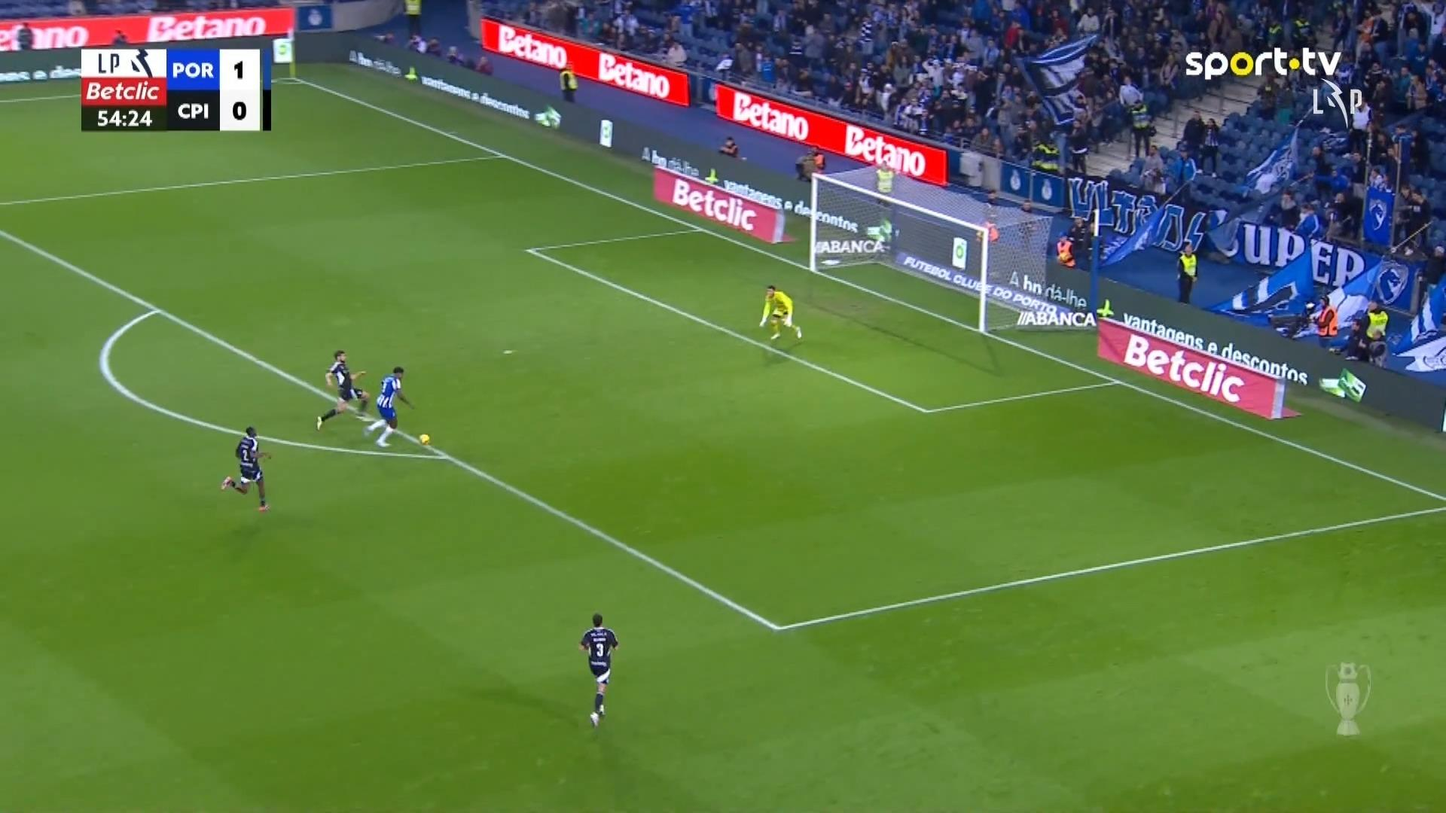ball: (419, 433, 429, 444)
goalkeeper: (758, 284, 802, 342)
player: (219, 425, 272, 512), (578, 612, 618, 727), (314, 349, 370, 431), (365, 365, 415, 446)
